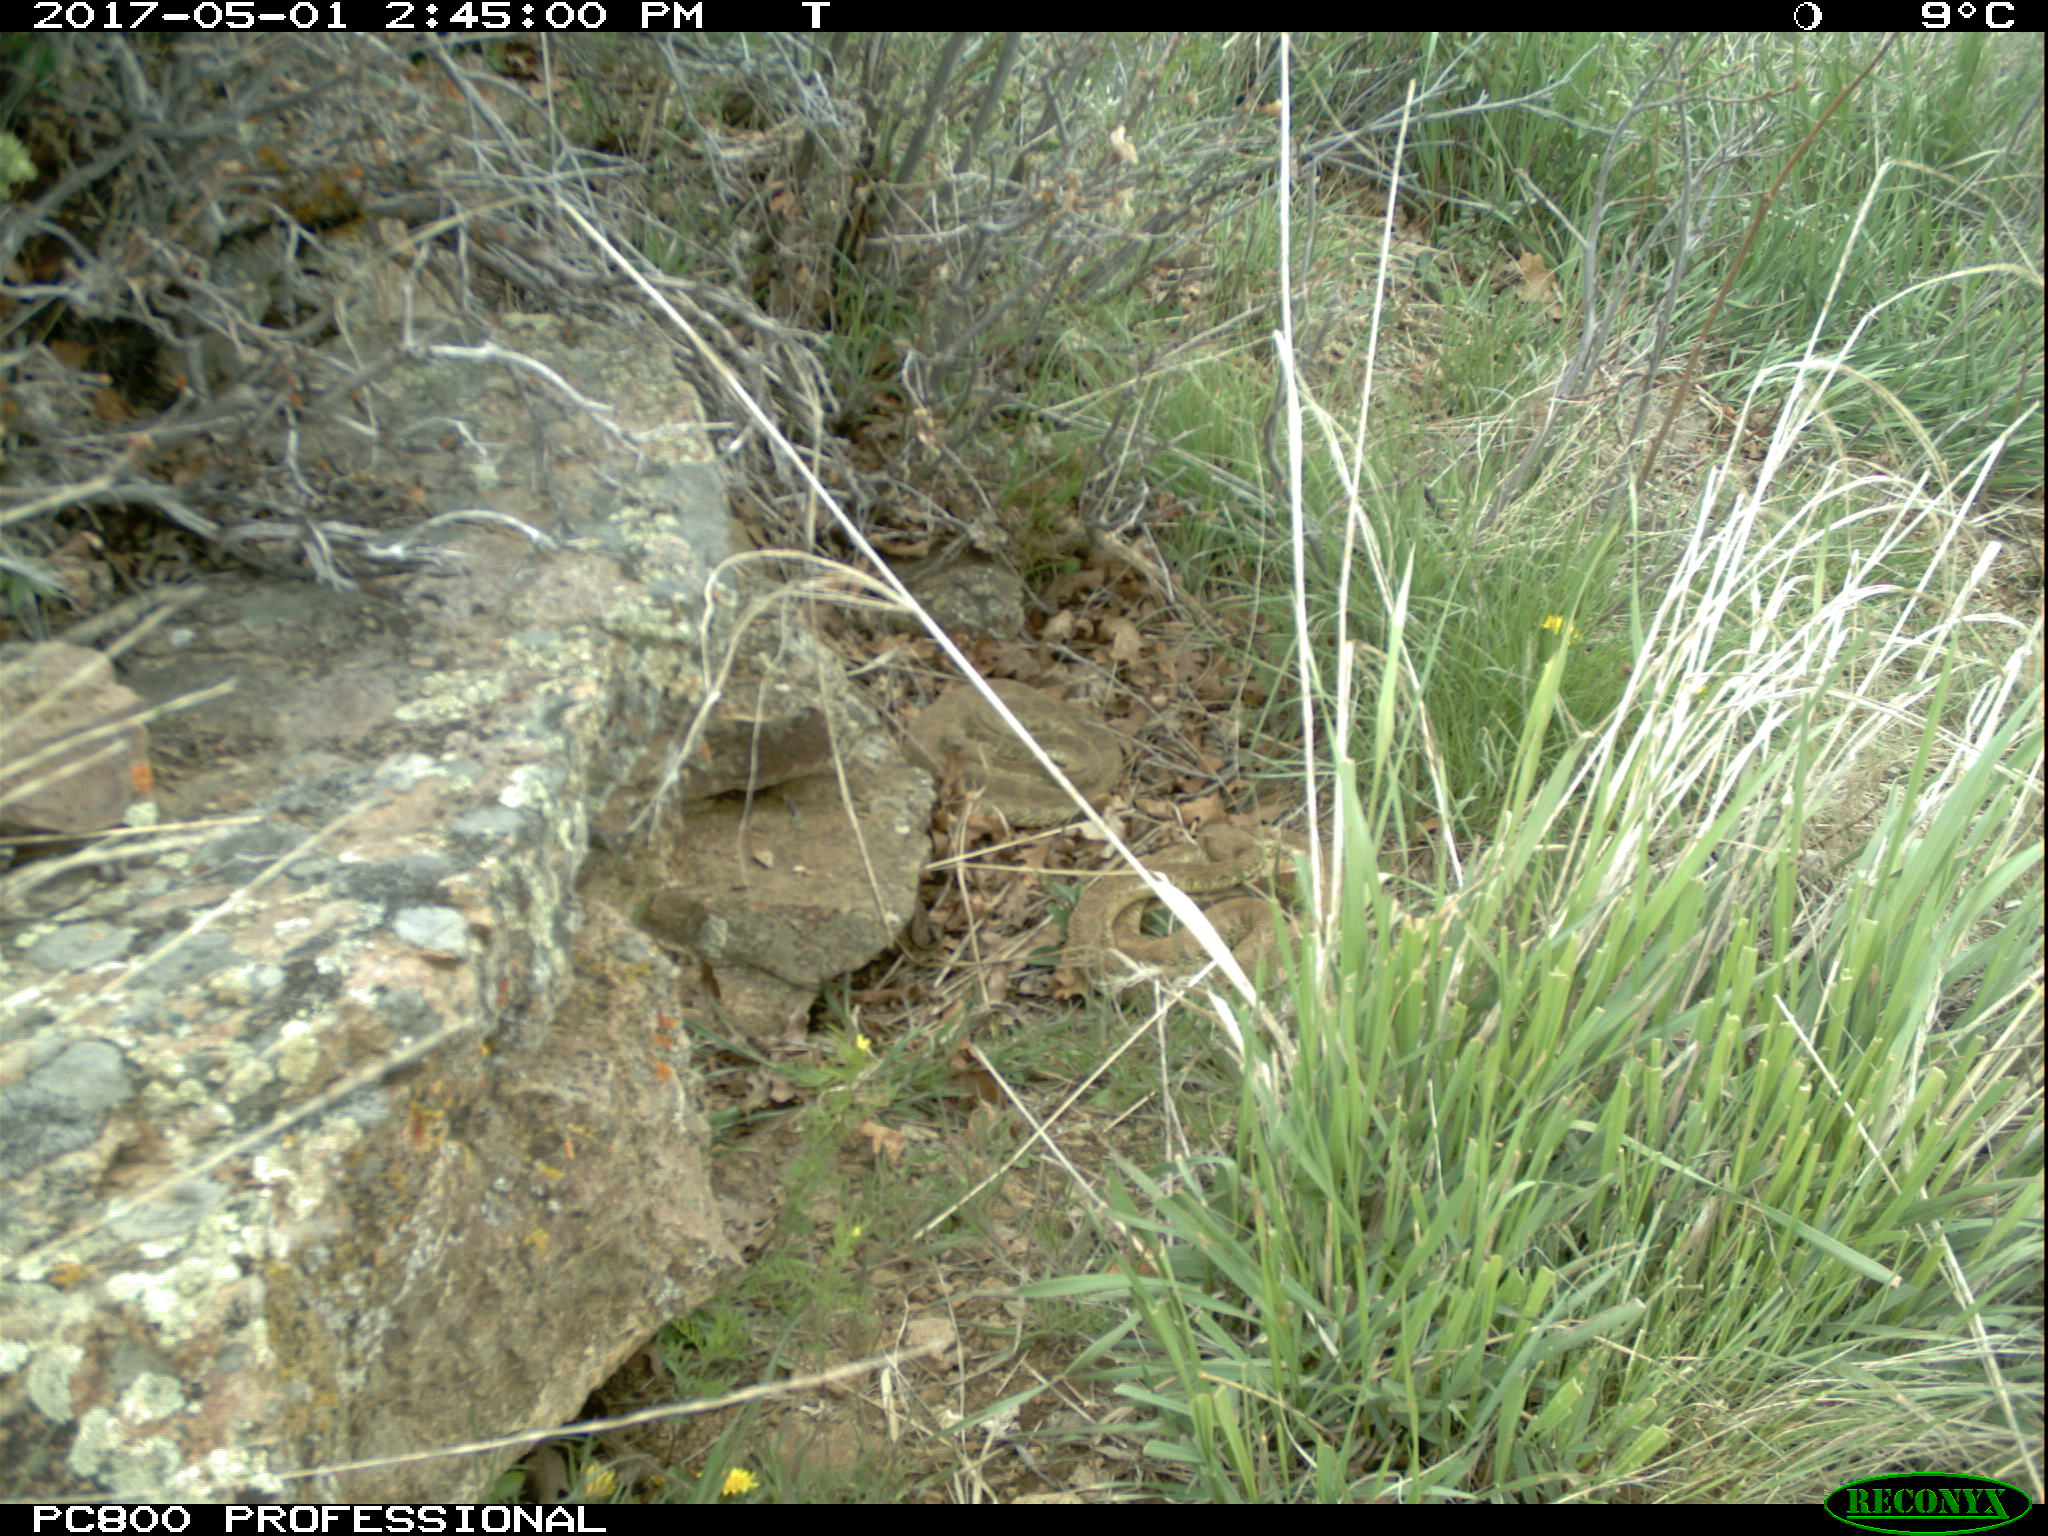snake: (1051, 820, 1309, 987), (910, 670, 1135, 824)
